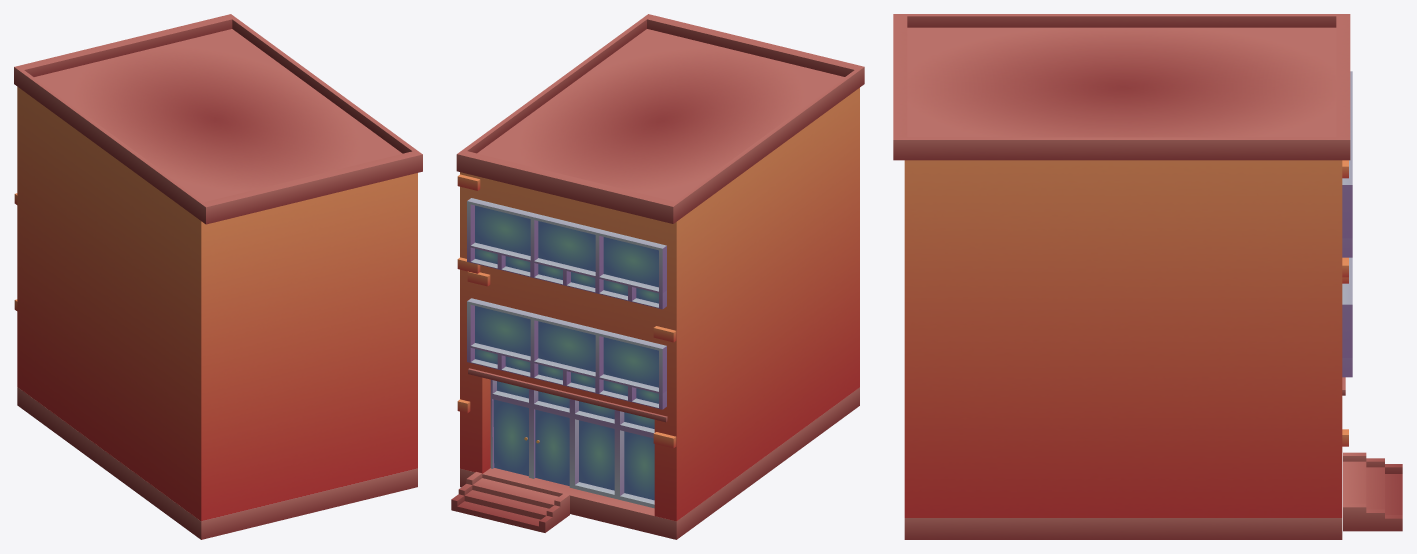
The picture shows the model from 3 angles, left to right: view 1: azimuth 30°, elevation 25°; view 2: azimuth 150°, elevation 25°; view 3: azimuth 270°, elevation 25°; orthographic projection. The views are drawn at different scales.
Parts seen in each view (by area): view 1: SM_3F_L_04; view 2: SM_3F_L_04; view 3: SM_3F_L_04.
Boxes of the visible parts, <box> form: SM_3F_L_04: <box>14,14,422,539</box>; SM_3F_L_04: <box>451,14,864,539</box>; SM_3F_L_04: <box>893,14,1402,539</box>.
Size of the model in its own units: 7.71 by 13.17 by 11.44.
